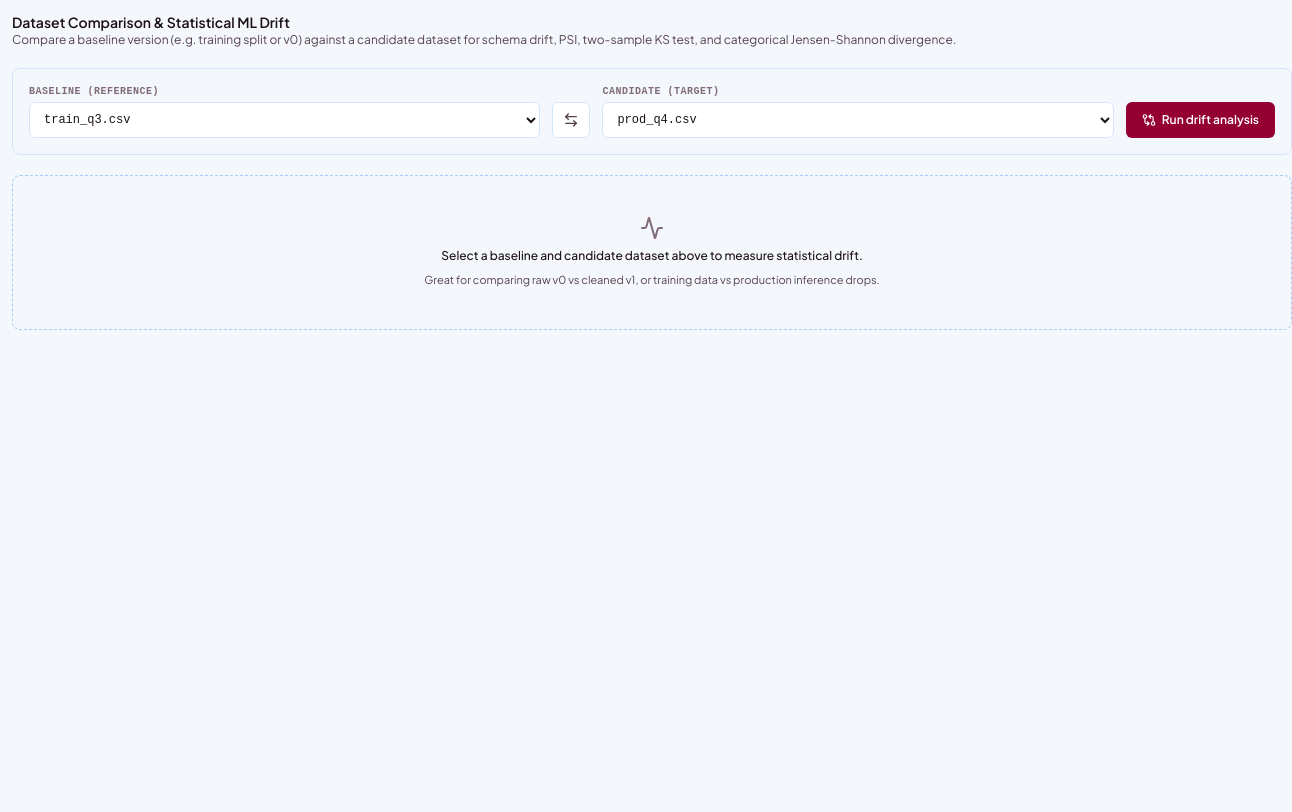
Scenario: DriftInspector › runs statistical drift comparison and renders schema diff, PSI, KS, and overlaid histogram
Click the button "Run drift analysis".
click(1200, 120)  # box [1126,102,1275,138]
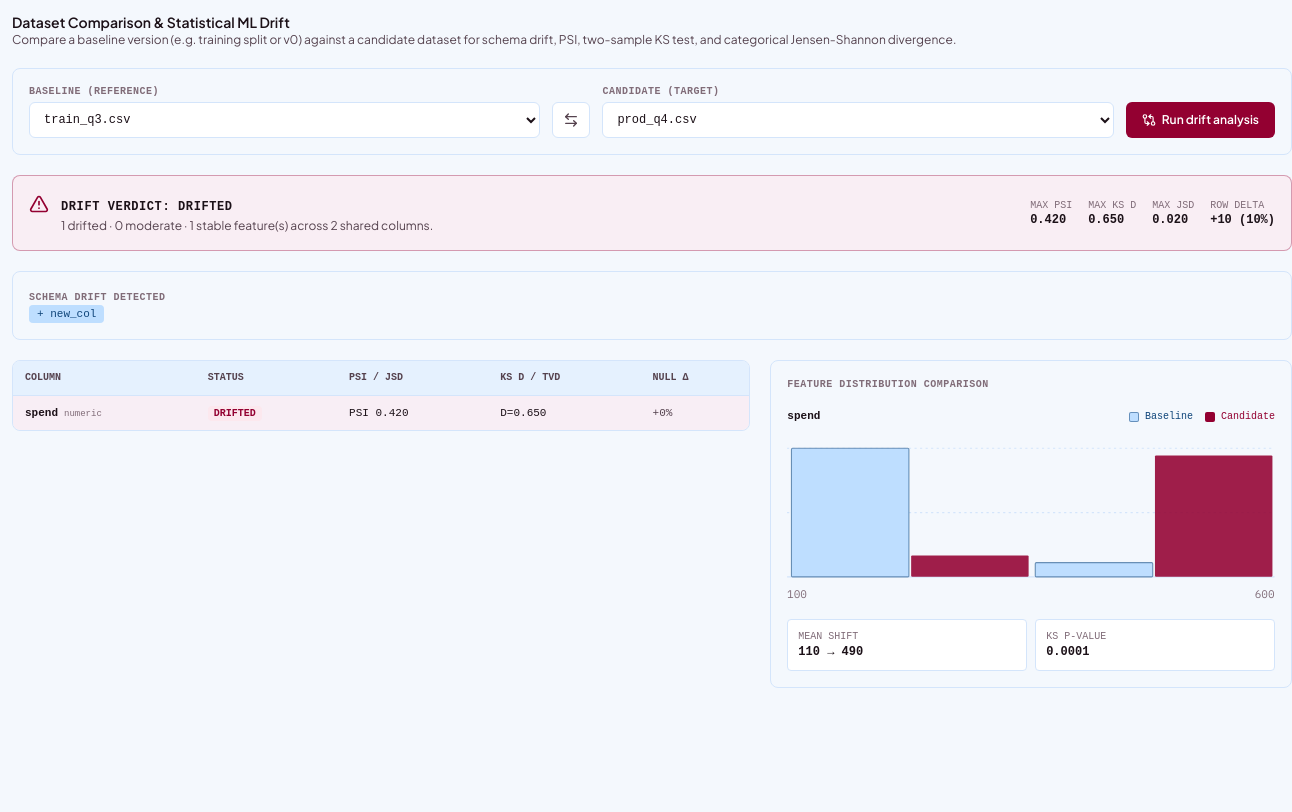
expect the text "DRIFT VERDICT: drifted" is shown: met, box [61,200,233,214]
expect the text "+ new_col" is shown: met, box [29,305,104,323]
expect the text "PSI 0.420" is shown: met, box [337,395,488,430]
